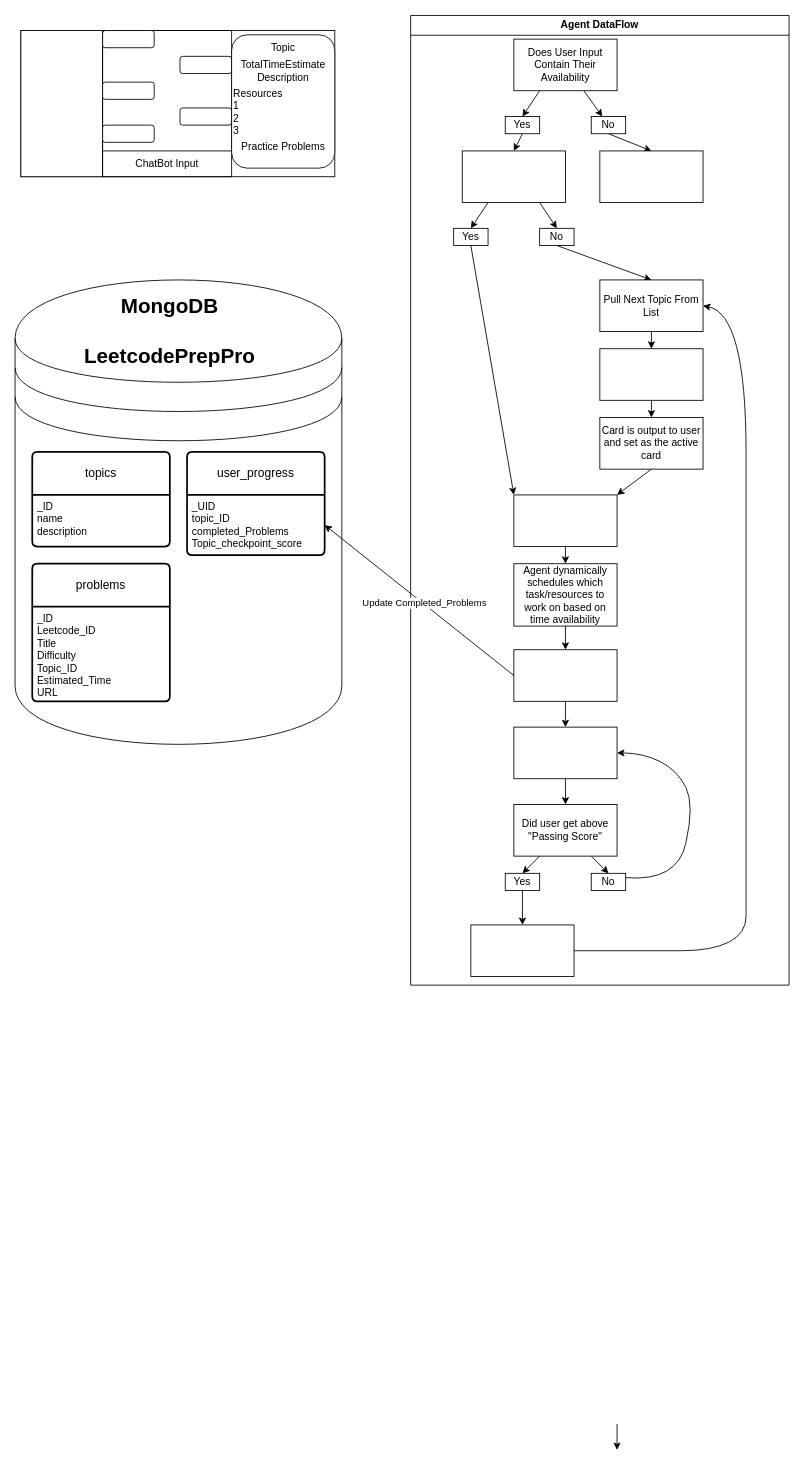
Some shapes in this 804 by 1471 pixel diagram are drawn without their labels. Each missing label, with the centre of its shape:
"Agent generates resources and attaches problems" belongs at pixel 651 374.
"Agent processes information on the active card to estimate task times" belongs at pixel 565 520.
"Chat Progress Resources Settings" belongs at pixel 61 103.
"Does An Active Card Exist" belongs at pixel 513 176.
"Mark Topic As Complete" belongs at pixel 522 950.
"Prompt the user for their availability." belongs at pixel 651 176.
"User Checks off tasks as they are completed" belongs at pixel 565 675.
"When all task are completed, generate knowledge check" belongs at pixel 565 752.
